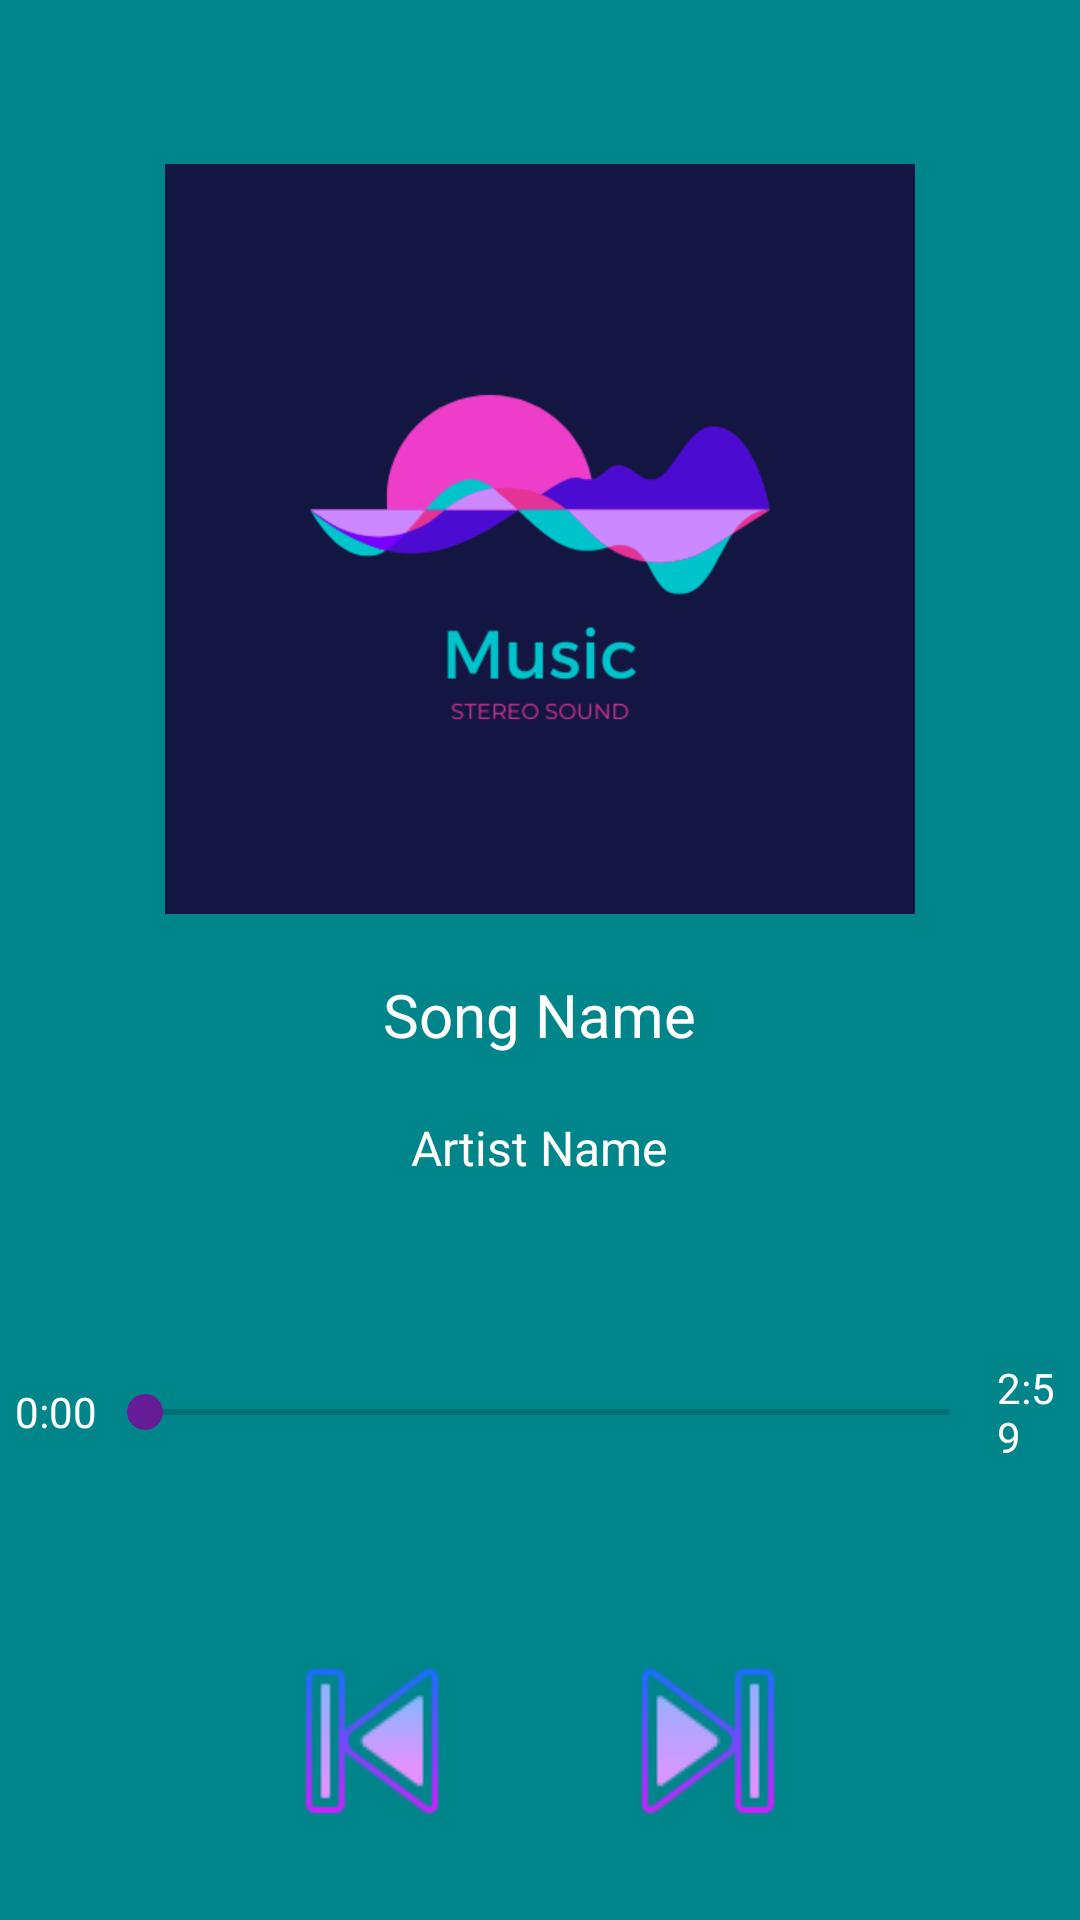

Screen size 1080x1920. Icon name, then its box in pixels as (x1, y1, x2, y2):
skipnext: (641, 1668, 775, 1814)
skipprev: (305, 1668, 439, 1814)
